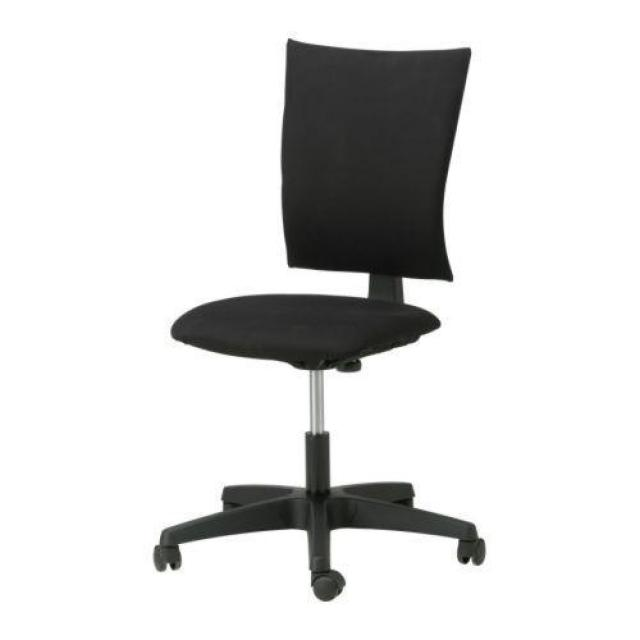table: (152, 40, 488, 604)
